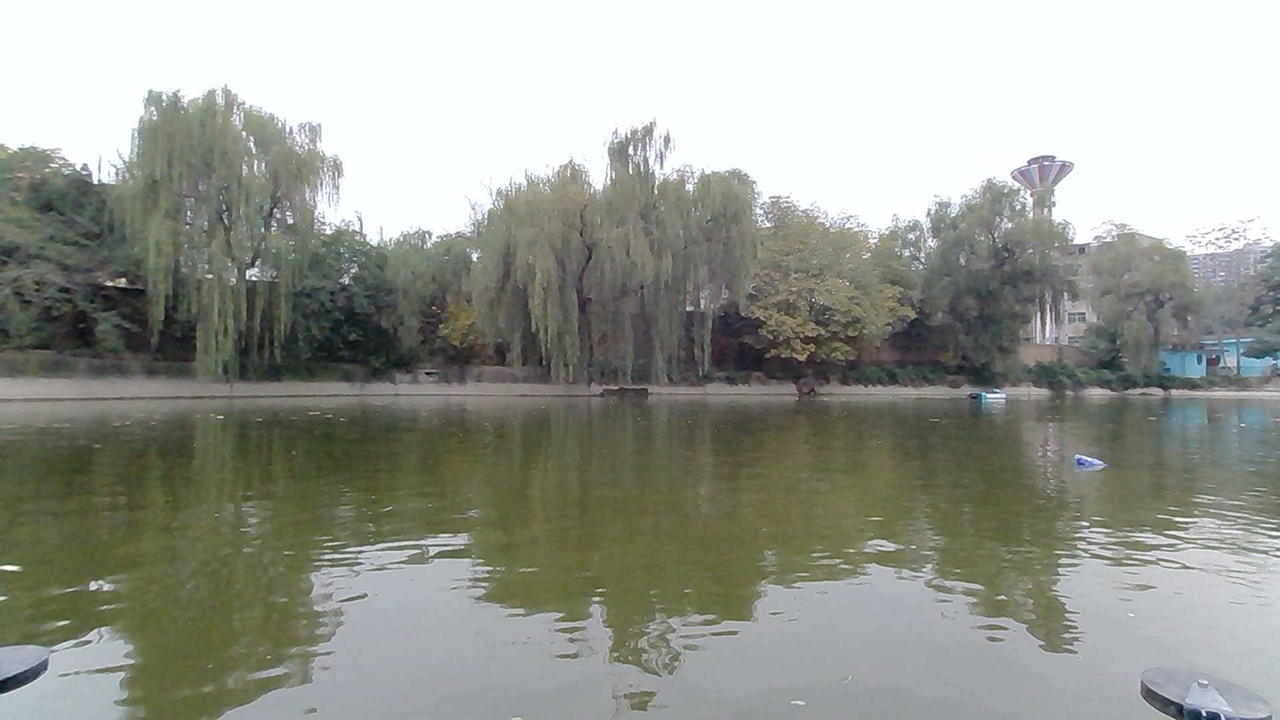bottle: (1063, 447, 1108, 481)
